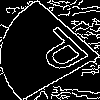P: (25, 25, 100, 81)
